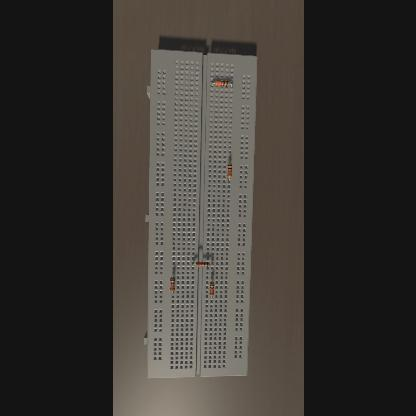breadboard: (143, 48, 257, 378)
resistor: (226, 164, 232, 178), (215, 80, 229, 86), (210, 282, 214, 296), (195, 262, 209, 266), (170, 277, 174, 291)
wire: (172, 272, 174, 278), (228, 178, 230, 182), (229, 84, 231, 87), (211, 84, 214, 86), (211, 276, 212, 282), (228, 161, 230, 163), (210, 296, 212, 298), (210, 262, 212, 264), (193, 262, 195, 264), (172, 291, 172, 292)
